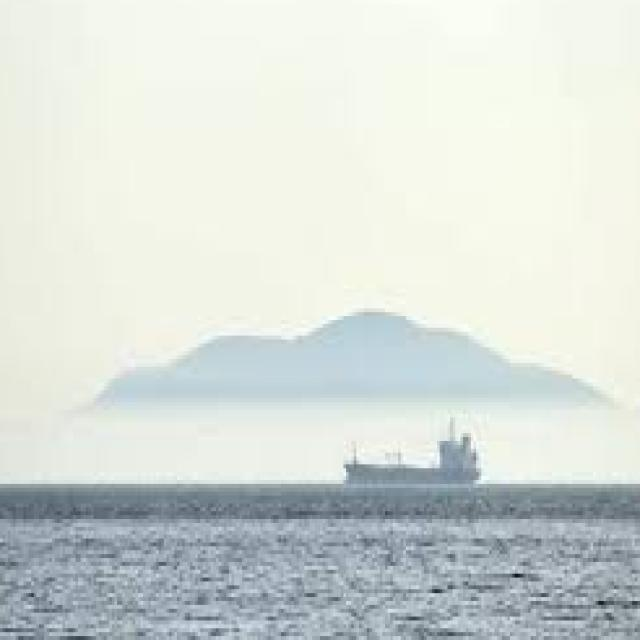cargoship: (344, 405, 503, 499)
